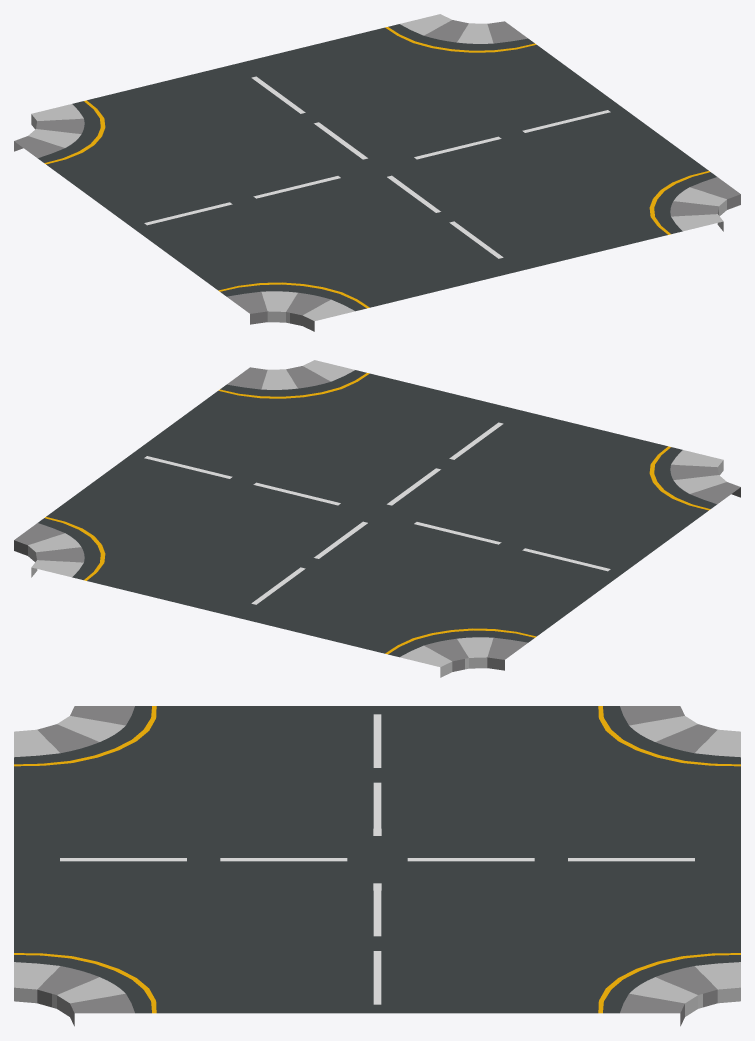
Rendered from SM_Road_02_B.FBX.
The picture shows the model from 3 angles, top to bottom: view 1: azimuth 30°, elevation 25°; view 2: azimuth 150°, elevation 25°; view 3: azimuth 270°, elevation 25°; orthographic projection. The views are drawn at different scales.
Visible parts, largest first — view 1: SM_Road_02_B; view 2: SM_Road_02_B; view 3: SM_Road_02_B.
Boxes of the visible parts, x1,y1,x2,y2 form: SM_Road_02_B: (14,14,740,331); SM_Road_02_B: (14,360,740,677); SM_Road_02_B: (14,706,740,1026).
Size of what is drawn, in the model's own units: 1200 by 1200 by 25.
